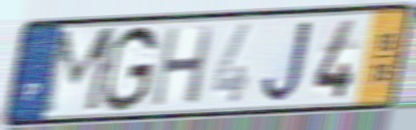4: (311, 17, 357, 102), (210, 20, 253, 107)
G: (100, 23, 161, 115)
H: (149, 24, 217, 110)
J: (259, 18, 316, 106)
M: (36, 24, 121, 119)
